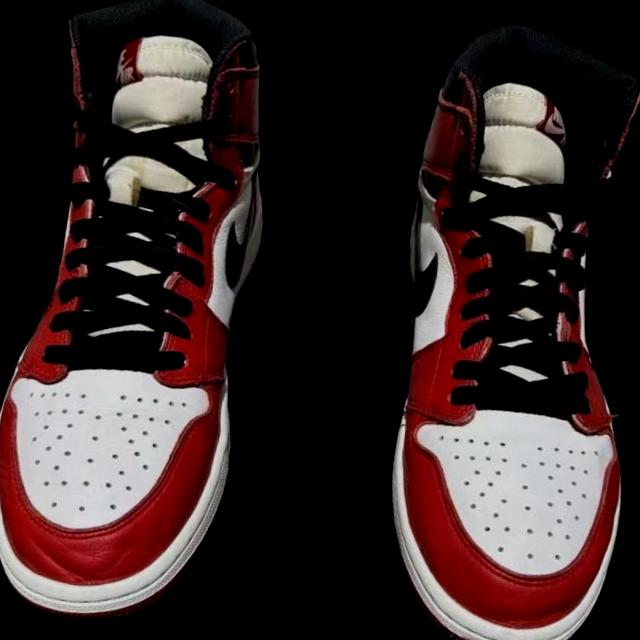nike_original_jordan: (0, 0, 289, 633), (366, 13, 640, 640)
